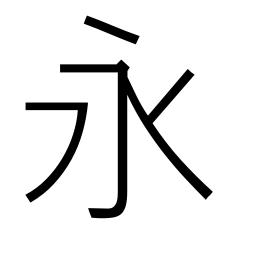D: (80, 13, 140, 48)
HSZ: (108, 58, 135, 95)
Hs: (58, 60, 97, 78)
Ne: (188, 176, 216, 201)
PNc: (138, 104, 163, 137)
PZe: (24, 182, 55, 204)
Ps: (174, 66, 197, 88)
SG: (85, 197, 130, 223)
Sm: (114, 136, 130, 164)
TPZ: (64, 100, 91, 138)
Ts: (22, 98, 51, 114)
